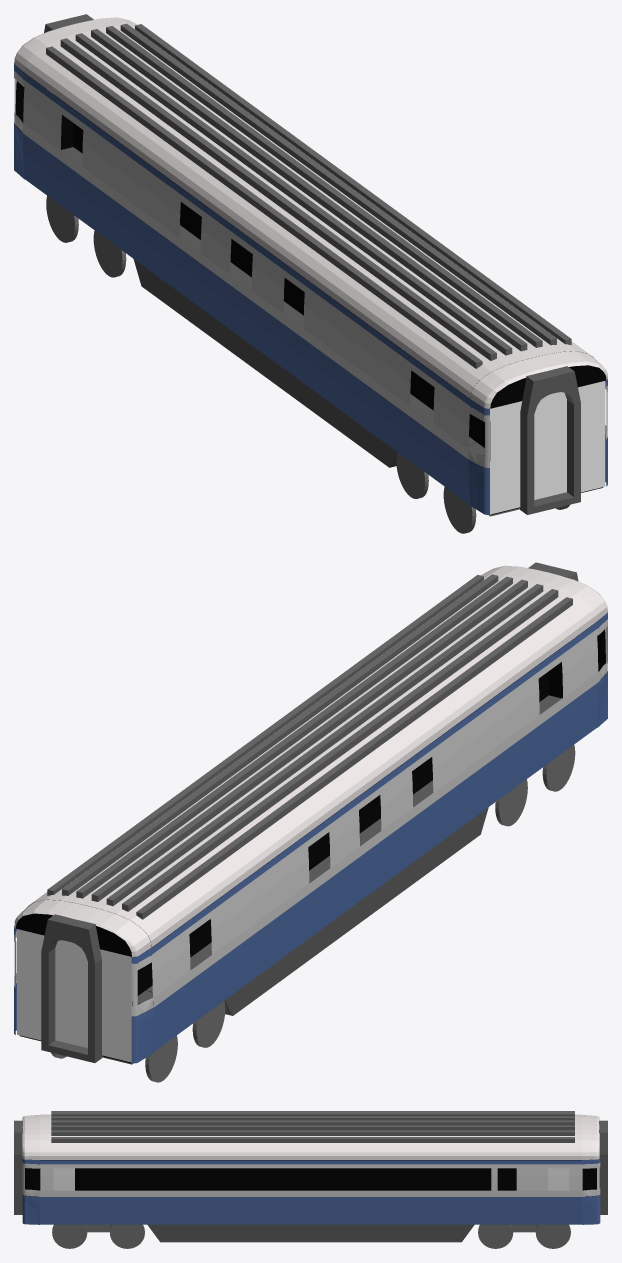
Rendered from br-mk3-sle-bg.dae.
3 renders of one model, top to bottom at view 1: azimuth 30°, elevation 25°; view 2: azimuth 150°, elevation 25°; view 3: azimuth 270°, elevation 25°, orthographic. The views are drawn at different scales.
Visible parts, largest first — view 1: Suzanne_001, Plane_007, Plane_001, Cube_010, Cube, Cube_011, Cube_008, Cube_009, Cube_004, Cube_002, Tube_003, Plane_022 (+19 smaller); view 2: Suzanne_001, Plane_007, Plane_100, Cube, Cube_010, Cube_011, Cube_008, Cube_009, Cube_004, Cube_002, Tube_002, Plane_022 (+19 smaller); view 3: Plane_134, Plane_111, Suzanne_001, Cube, Plane_123, Cube_002, Cube_003, Cube_004, Cube_008, Plane_135, Plane_136, Cube_009 (+20 smaller).
Boxes of the visible parts, box(x1,y1,x2,y2) form: Suzanne_001: box(24, 24, 593, 398); Plane_007: box(23, 140, 470, 504); Plane_001: box(490, 381, 605, 514); Cube_010: box(60, 38, 496, 360); Cube: box(133, 259, 396, 467); Cube_011: box(46, 46, 482, 368); Cube_008: box(91, 29, 527, 351); Cube_009: box(75, 33, 512, 355); Cube_004: box(106, 26, 542, 347); Cube_002: box(120, 23, 556, 345); Tube_003: box(520, 366, 580, 514); Plane_022: box(22, 123, 468, 459); Suzanne_001: box(28, 573, 596, 947); Plane_007: box(151, 688, 598, 1053); Plane_100: box(17, 929, 132, 1062); Cube: box(224, 807, 488, 1015); Cube_010: box(122, 589, 558, 911); Cube_011: box(136, 597, 572, 919); Cube_008: box(91, 579, 527, 901); Cube_009: box(106, 584, 543, 906); Cube_004: box(76, 576, 512, 898); Cube_002: box(62, 574, 498, 895); Tube_002: box(41, 914, 102, 1062); Plane_022: box(153, 671, 599, 1007); Plane_134: box(40, 1201, 582, 1224); Plane_111: box(25, 1159, 596, 1196); Suzanne_001: box(40, 1114, 582, 1159); Cube: box(147, 1224, 474, 1242); Plane_123: box(39, 1190, 582, 1196); Cube_002: box(51, 1130, 574, 1135); Cube_003: box(51, 1137, 574, 1142); Cube_004: box(51, 1125, 574, 1130); Cube_008: box(51, 1120, 574, 1125); Plane_135: box(40, 1160, 582, 1164); Plane_136: box(40, 1164, 582, 1168); Cube_009: box(51, 1116, 574, 1120).
Bounding box in the file's own units: 2.07 × 13.39 × 2.81.
